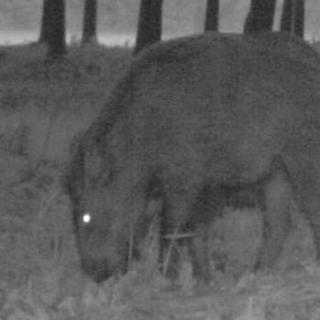Pig: (54, 22, 320, 292)
